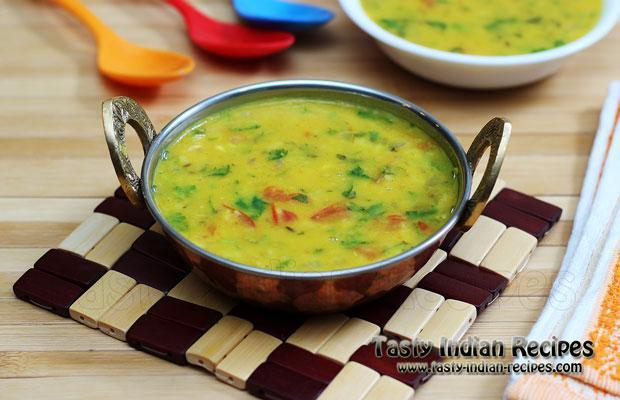dal: (157, 92, 462, 294), (361, 2, 613, 54)
